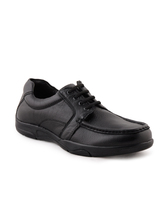shoes: (12, 75, 156, 157)
